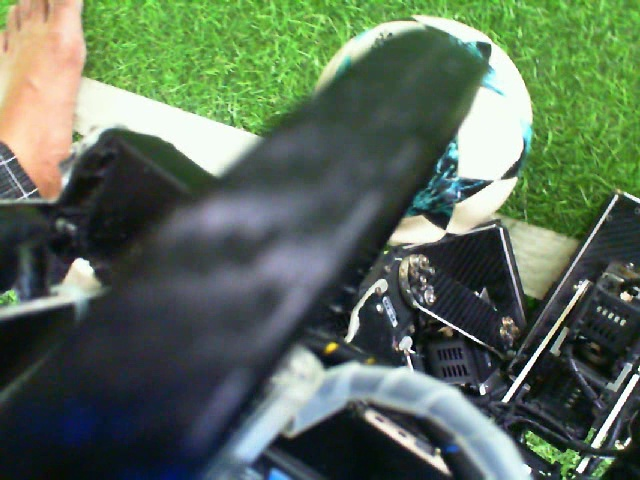ball: (379, 62, 535, 252)
